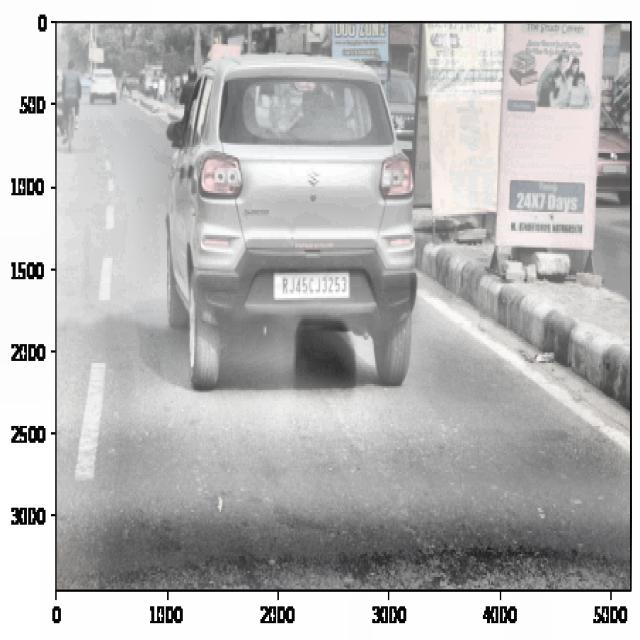license_plate: (279, 269, 352, 305)
